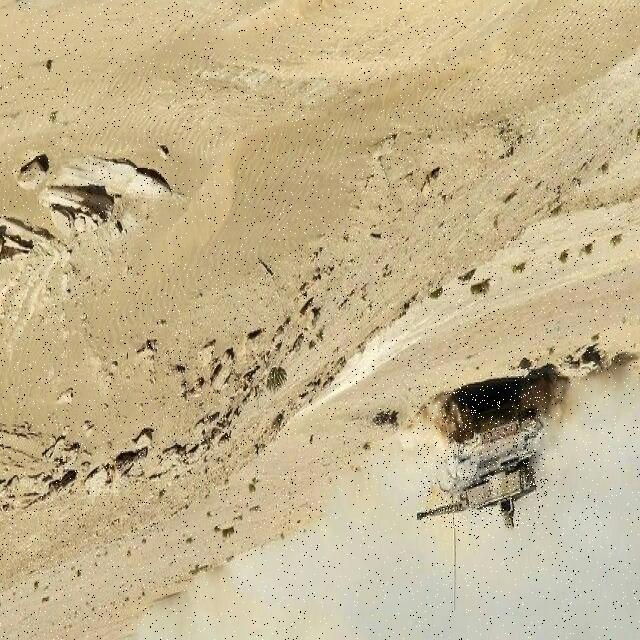MIL_MBT: (417, 386, 547, 528)
